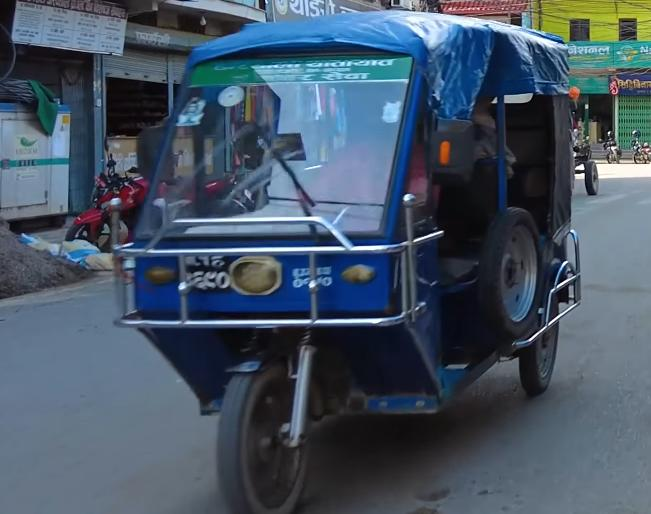bike: (57, 154, 151, 254)
e-rickshaw: (116, 14, 580, 514)
